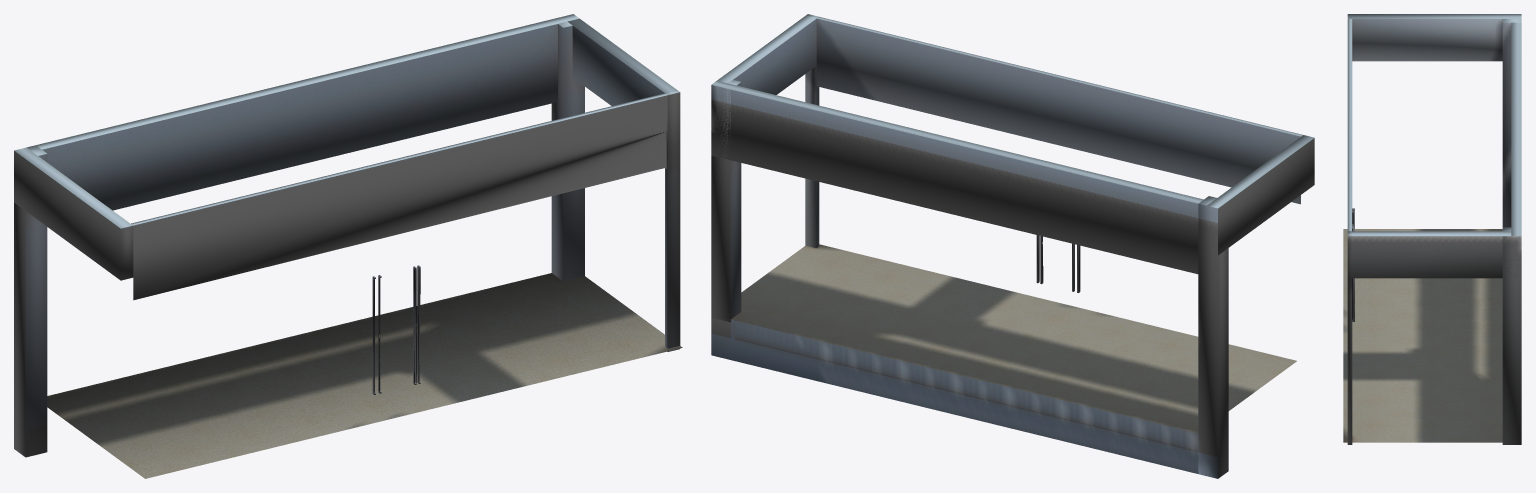
The picture shows the model from 3 angles, left to right: view 1: azimuth 30°, elevation 25°; view 2: azimuth 150°, elevation 25°; view 3: azimuth 270°, elevation 25°; orthographic projection. The views are drawn at different scales.
Parts seen in each view (by area): view 1: hc_2floor_room028 (1)_1; view 2: hc_2floor_room028 (1)_1; view 3: hc_2floor_room028 (1)_1.
Boxes of the visible parts, x1,y1,x2,y2 form: hc_2floor_room028 (1)_1: (14, 14, 682, 478); hc_2floor_room028 (1)_1: (711, 14, 1314, 478); hc_2floor_room028 (1)_1: (1343, 14, 1521, 444).
Bounding box in the file's own units: 0.9 × 0.4589 × 0.305.
1 material, 1 textured.
